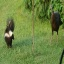skunk: (5, 18, 15, 47), (50, 12, 62, 36)
